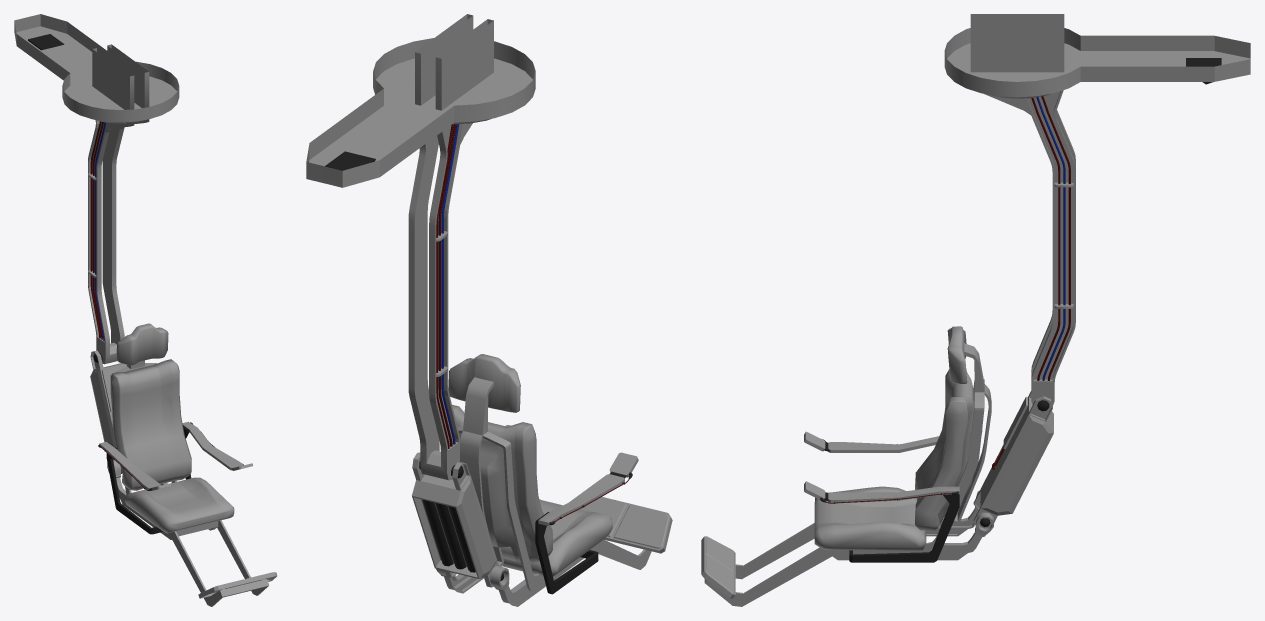
The model's file is CockpitChairSuspended.FBX.
The picture shows the model from 3 angles, left to right: view 1: azimuth 30°, elevation 25°; view 2: azimuth 150°, elevation 25°; view 3: azimuth 270°, elevation 25°; orthographic projection. The views are drawn at different scales.
Parts seen in each view (by area): view 1: Object001, Box001, Cylinder002, Line001, Box002, Box003, Box005, Box008, Box007, Box004; view 2: Object001, Cylinder002, Box008, Box001, Box003, Box002, Line001, Box004, Box005, Box007; view 3: Object001, Cylinder002, Box003, Line001, Box008, Box001, Box002, Box004, Box007, Box005.
Part boxes in pixels (x1,y1,x2,y2): Object001: (88,44,149,364); Box001: (110,359,191,490); Cylinder002: (14,14,179,122); Line001: (125,477,234,533); Box002: (98,421,252,534); Box003: (110,360,269,606); Box005: (116,323,168,365); Box008: (90,350,126,473); Box007: (107,460,218,539); Box004: (198,572,277,598); Object001: (408,14,493,480); Cylinder002: (306,38,535,187); Box008: (412,452,498,587); Box001: (452,404,552,562); Box003: (457,377,651,590); Box002: (505,425,638,594); Line001: (502,499,612,576); Box004: (580,497,672,553); Box005: (448,354,520,412); Box007: (436,557,584,606); Object001: (970,14,1075,405); Cylinder002: (944,28,1250,97); Box003: (704,343,991,606); Line001: (814,486,926,550); Box008: (973,391,1053,524); Box001: (915,369,982,530); Box002: (804,431,959,562); Box004: (701,536,735,598); Box007: (832,491,993,560); Box005: (947,326,967,384).
Bounding box in the file's own units: 25.72 × 111 × 96.8.
